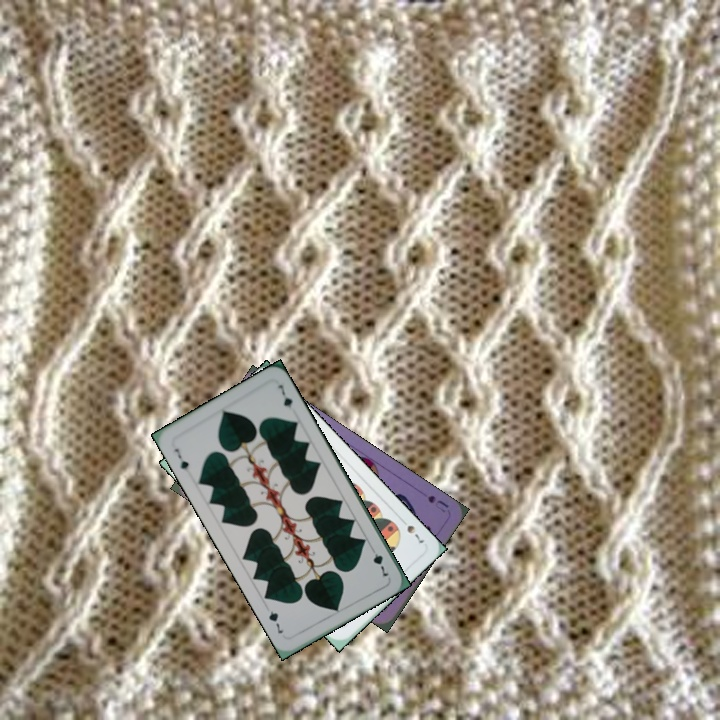G7: (366, 542, 392, 580), (170, 444, 192, 477)
S7: (396, 514, 427, 546)
SU: (423, 491, 451, 515)
